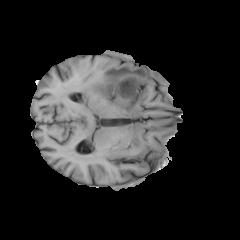glioma: (99, 65, 147, 106)
